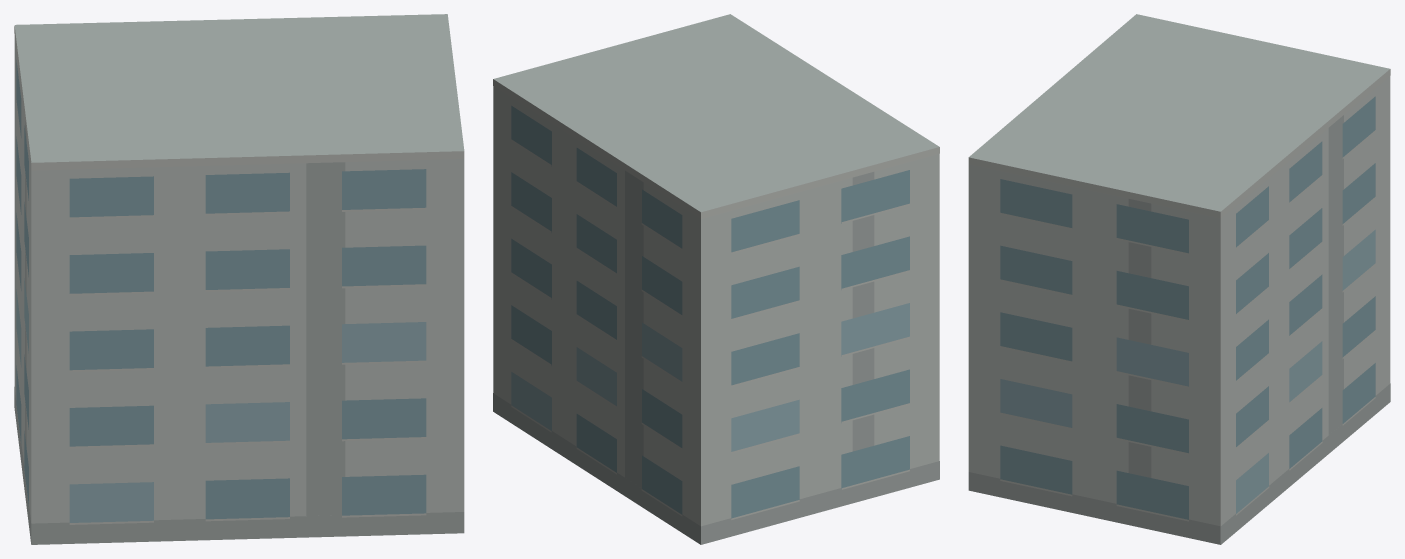
File: survey-upis-32891611.glb
3 views of the same model, side by side, from view 1: azimuth 30°, elevation 25°; view 2: azimuth 150°, elevation 25°; view 3: azimuth 270°, elevation 25° (orthographic). The views are drawn at different scales.
Visible parts, largest first — view 1: survey-upis-32891611.tmp; view 2: survey-upis-32891611.tmp; view 3: survey-upis-32891611.tmp.
Part boxes in pixels (x1,y1,x2,y2): survey-upis-32891611.tmp: (14, 14, 464, 544); survey-upis-32891611.tmp: (493, 14, 939, 544); survey-upis-32891611.tmp: (968, 14, 1390, 544).
Size of the model in its own units: 15.16 by 11.9 by 13.66.
